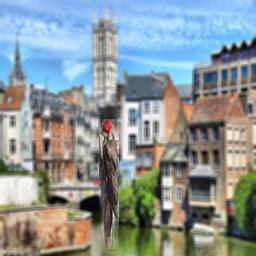Woodpecker: (99, 119, 119, 249)
